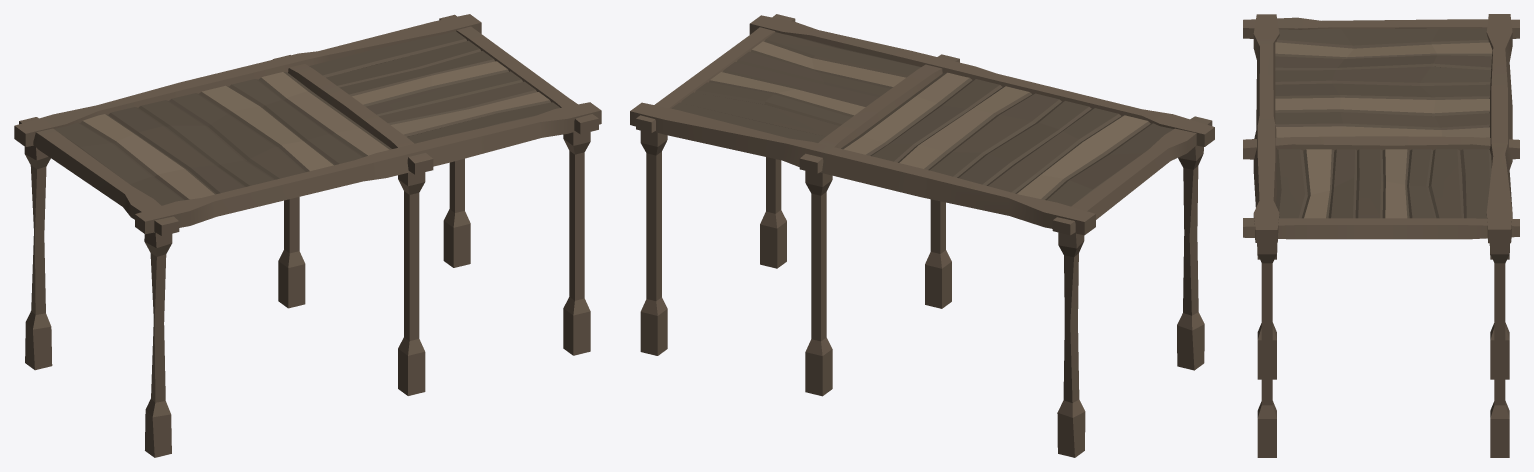
The model's file is SM_Bld_Shanty_Deck_01.glb.
3 renders of one model, left to right at view 1: azimuth 30°, elevation 25°; view 2: azimuth 150°, elevation 25°; view 3: azimuth 270°, elevation 25°, orthographic. The views are drawn at different scales.
Parts seen in each view (by area): view 1: SM_Bld_Shanty_Deck_01; view 2: SM_Bld_Shanty_Deck_01; view 3: SM_Bld_Shanty_Deck_01.
Boxes of the visible parts, x1,y1,x2,y2 form: SM_Bld_Shanty_Deck_01: (14,14,601,457); SM_Bld_Shanty_Deck_01: (630,14,1214,457); SM_Bld_Shanty_Deck_01: (1243,14,1519,457).
Bounding box in the file's own units: 0.05 × 0.0255 × 0.0271.
